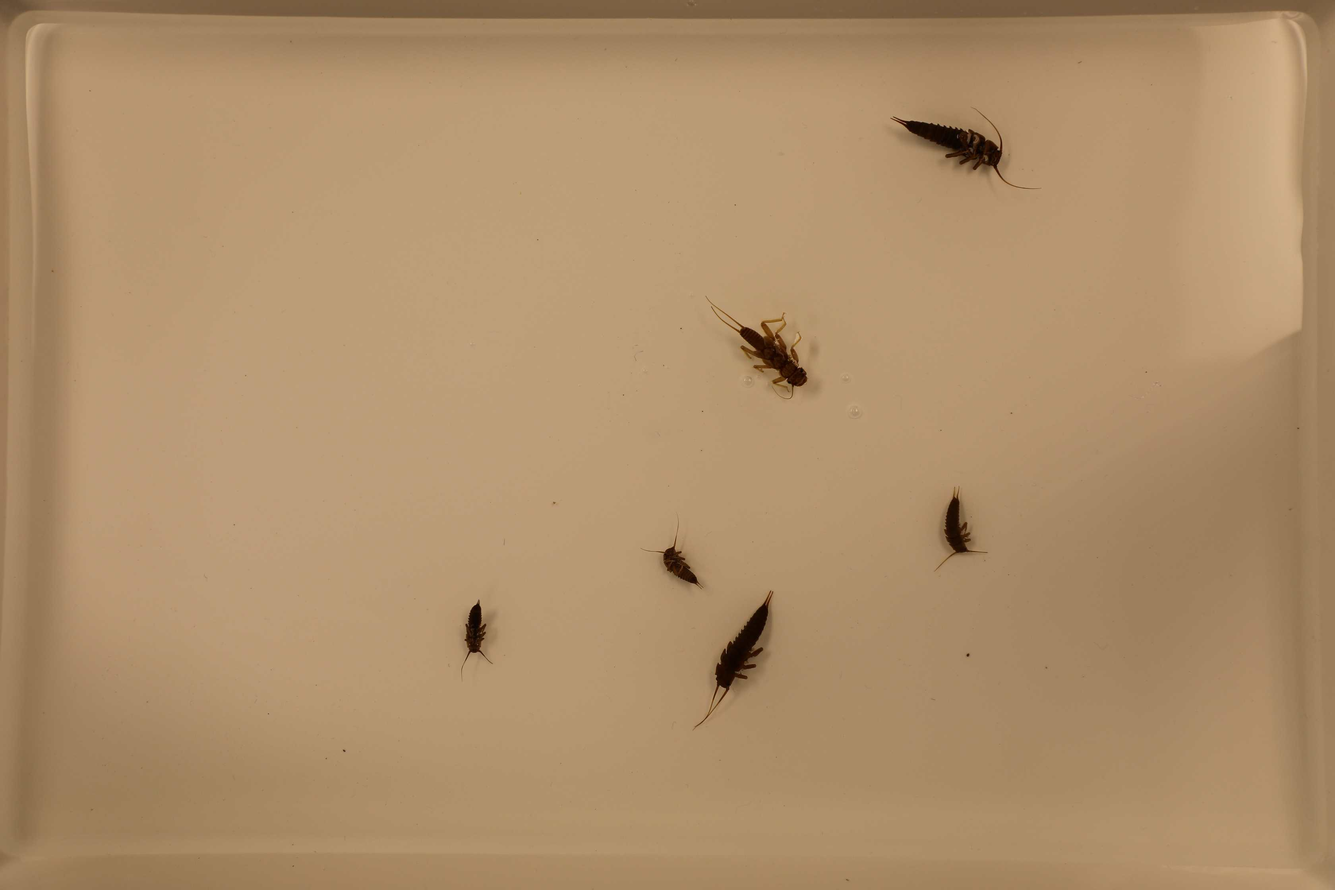Stonefly: (703, 297, 819, 405), (888, 114, 1037, 195), (692, 591, 773, 730), (923, 485, 987, 576), (647, 518, 708, 588), (456, 596, 495, 677)
